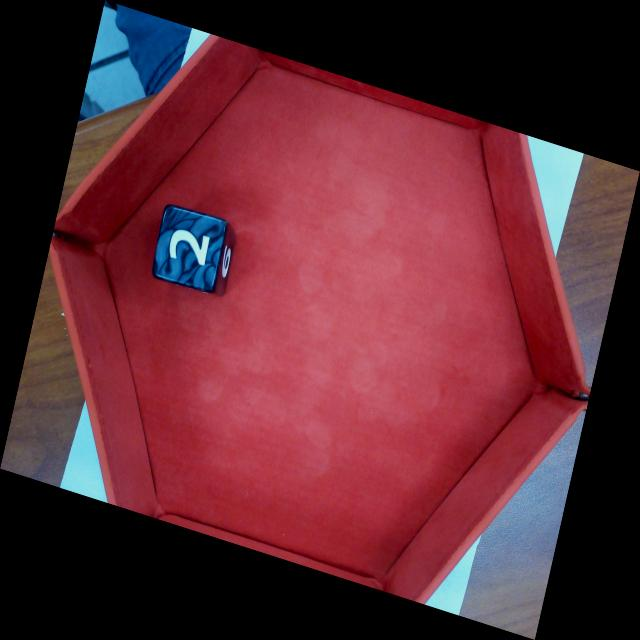dice: (155, 207, 223, 290)
